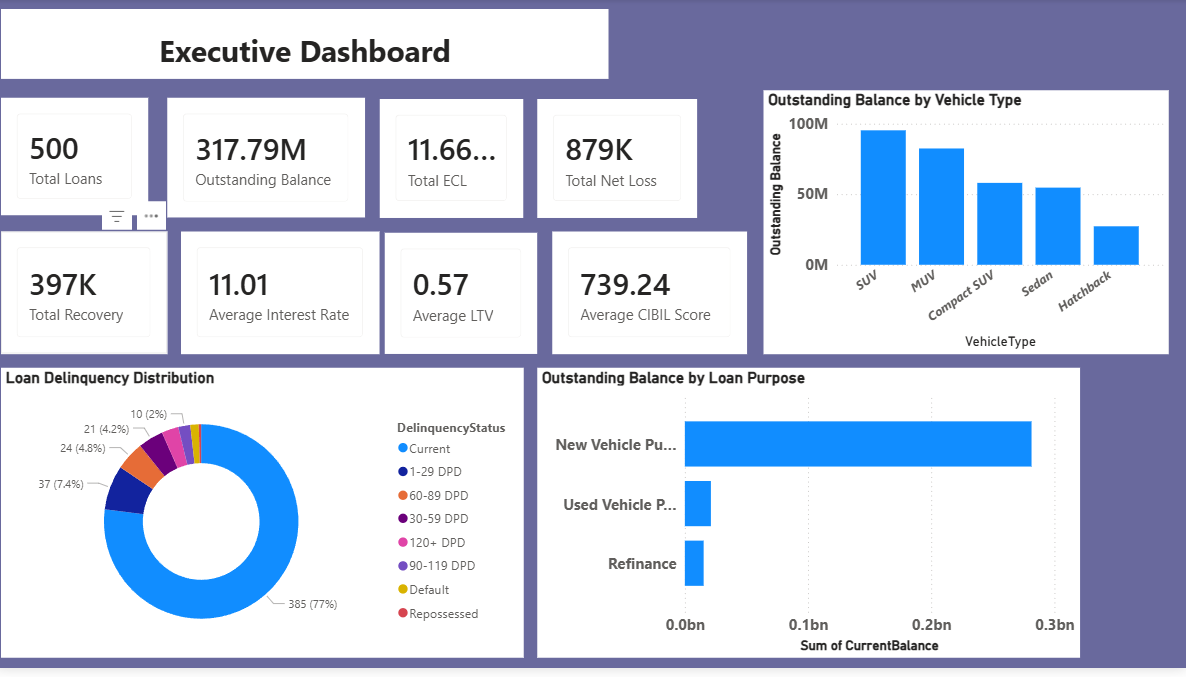

This screenshot's page, from the dashboard's own definition file:
{"tool":"powerbi","page":{"name":"Executive Dashboard","canvas":[1280,720],"ordinal":0},"visuals":[{"type":"cardVisual","fields":{"Data":["Loans.Total Loans"]},"box":[5.4,106.2,158.7,126.4],"z":0},{"type":"cardVisual","fields":{"Data":["Loans.Outstanding Balance"]},"box":[184.2,106.2,212.5,129.1],"z":1000},{"type":"cardVisual","fields":{"Data":["Loans.Total Recovery"]},"box":[5.4,250.1,178.9,131.8],"z":2000},{"type":"cardVisual","fields":{"Data":["Loans.Total Net Loss"]},"box":[582.3,107.6,172.1,127.8],"z":3000},{"type":"cardVisual","fields":{"Data":["Loans.Average LTV"]},"box":[418.2,251.5,164.1,130.4],"z":4000},{"type":"cardVisual","fields":{"Data":["Loans.Average Interest Rate"]},"box":[199,250.1,213.8,131.8],"z":5000},{"type":"cardVisual","fields":{"Data":["Loans.Total ECL"]},"box":[412.9,107.6,154.7,127.8],"z":6000},{"type":"cardVisual","fields":{"Data":["Loans.Average CIBIL Score"]},"box":[598.4,250.1,209.8,131.8],"z":7000},{"type":"textbox","box":[5.4,10.8,653.6,75.3],"z":8000},{"type":"donutChart","title":"Loan Delinquency Distribution","fields":{"Category":["S.DelinquencyStatus"],"Y":["CountNonNull(S.LoanID)"]},"box":[5.4,396.7,562.1,312],"z":9000},{"type":"clusteredBarChart","title":"Outstanding Balance by Loan Purpose","fields":{"Category":["Loans.LoanPurpose"],"Y":["Sum(Loans.CurrentBalance)"]},"box":[582.3,396.7,583.7,312],"z":10000},{"type":"clusteredColumnChart","title":"Outstanding Balance by Vehicle Type","fields":{"Category":["Loans.VehicleType"],"Y":["Loans.Outstanding Balance"]},"box":[825.7,98.2,435.7,283.8],"z":11000}]}

Visuals, with their boxes in screenshot pixels (x1, y1, x2, y2), scaled from the page's 1280x720 canvas onto the 1186x677 screenshot:
cardVisual - Loans.Total Loans: bbox=[5, 100, 152, 219]
cardVisual - Loans.Outstanding Balance: bbox=[171, 100, 368, 221]
cardVisual - Loans.Total Recovery: bbox=[5, 235, 171, 359]
cardVisual - Loans.Total Net Loss: bbox=[540, 101, 699, 221]
cardVisual - Loans.Average LTV: bbox=[387, 236, 540, 359]
cardVisual - Loans.Average Interest Rate: bbox=[184, 235, 382, 359]
cardVisual - Loans.Total ECL: bbox=[383, 101, 526, 221]
cardVisual - Loans.Average CIBIL Score: bbox=[554, 235, 749, 359]
textbox: bbox=[5, 10, 611, 81]
"Loan Delinquency Distribution" donutChart: bbox=[5, 373, 526, 666]
"Outstanding Balance by Loan Purpose" clusteredBarChart: bbox=[540, 373, 1080, 666]
"Outstanding Balance by Vehicle Type" clusteredColumnChart: bbox=[765, 92, 1169, 359]
